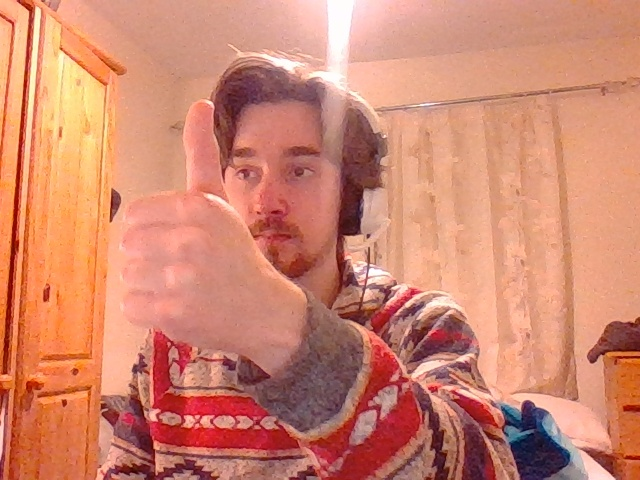good: (121, 99, 231, 347)
